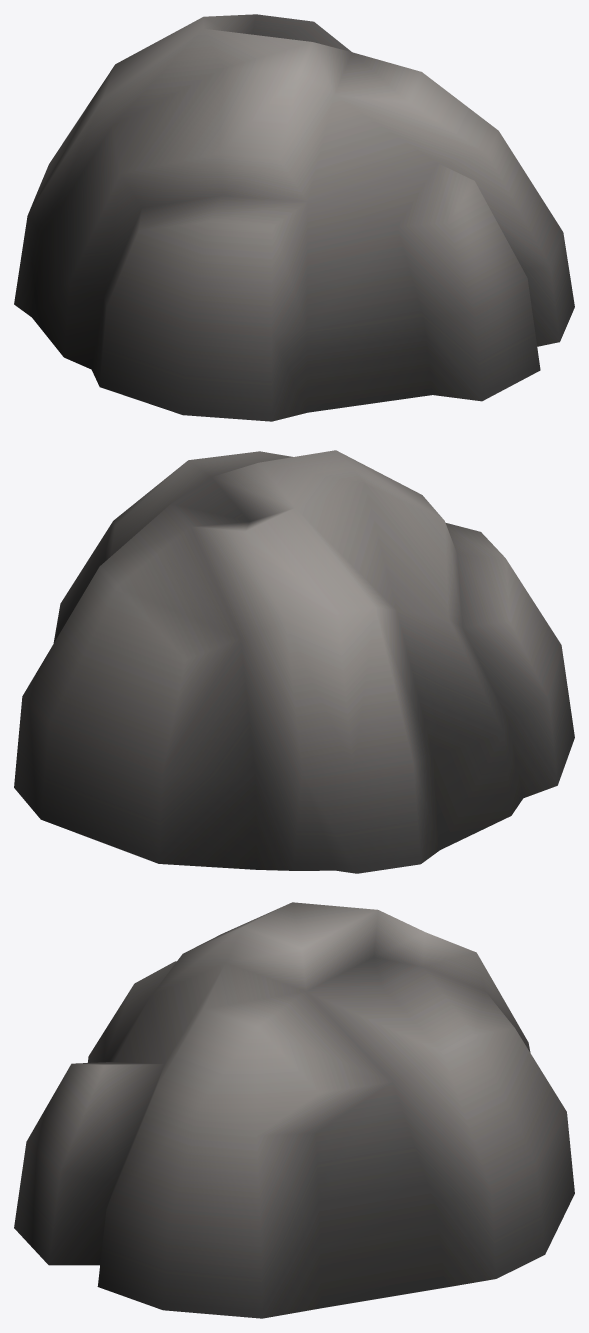
File: m_Stone02_A.fbx
The picture shows the model from 3 angles, top to bottom: view 1: azimuth 30°, elevation 25°; view 2: azimuth 150°, elevation 25°; view 3: azimuth 270°, elevation 25°; orthographic projection. The views are drawn at different scales.
Visible parts, largest first — view 1: m_Stone02_A; view 2: m_Stone02_A; view 3: m_Stone02_A.
Part boxes in pixels (box(x1,y1,x2,y2)): m_Stone02_A: box(14, 14, 574, 421); m_Stone02_A: box(14, 450, 574, 873); m_Stone02_A: box(14, 902, 574, 1318).
Size of the model in its own units: 500 by 278 by 526.
